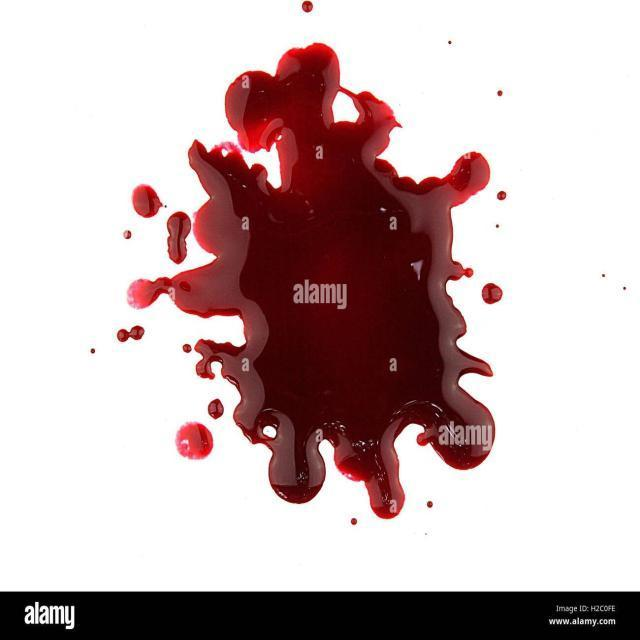flood: (112, 39, 513, 529)
